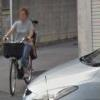bicycles: (4, 37, 33, 96)
